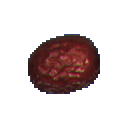gd: (15, 15, 126, 102)
